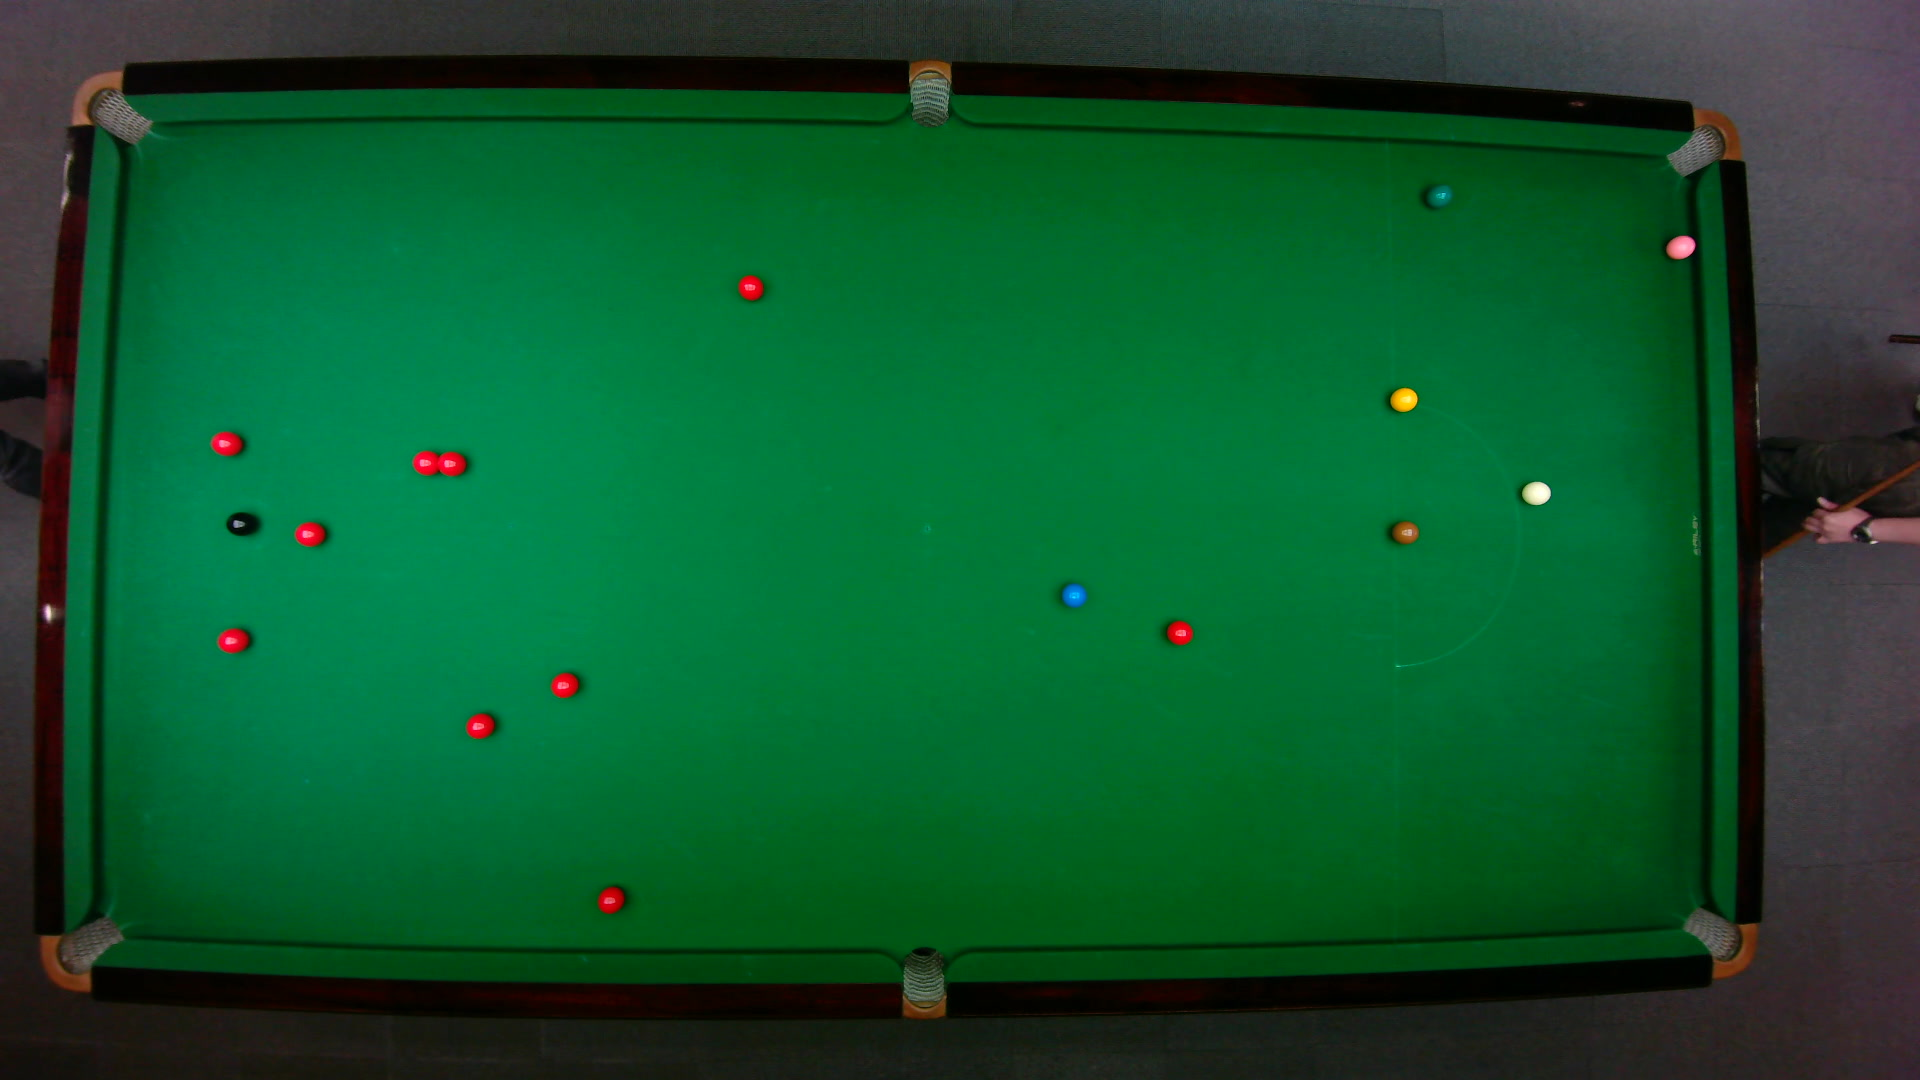bag: (37, 913, 125, 993), (69, 69, 152, 145), (1679, 905, 1756, 978), (1663, 107, 1741, 177), (901, 944, 944, 1021), (909, 57, 949, 128)
black: (223, 510, 256, 535)
blue: (1059, 582, 1087, 607)
brown: (1389, 520, 1419, 545)
green: (1423, 182, 1453, 208)
pink: (1663, 232, 1697, 260)
red: (214, 625, 251, 653), (208, 429, 244, 456), (291, 520, 326, 547), (463, 711, 496, 738), (436, 448, 467, 476), (410, 448, 442, 475), (736, 272, 764, 301), (1164, 618, 1193, 646), (549, 671, 579, 698)
white: (1519, 477, 1552, 506)
yellow: (595, 884, 625, 914), (1387, 385, 1418, 411)
zone: (1390, 400, 1519, 666)
